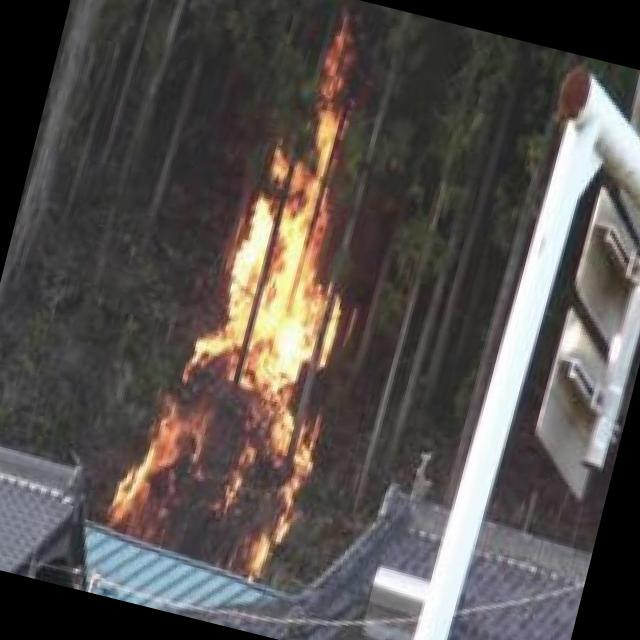Fire: (106, 21, 408, 578)
